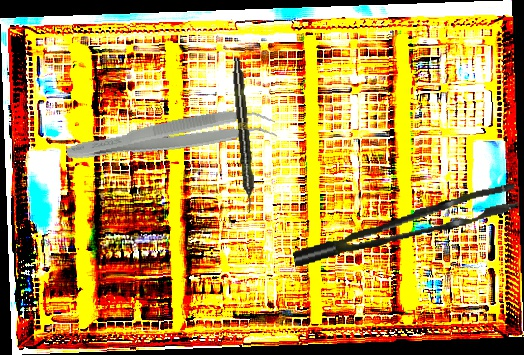Handpiece: (230, 57, 257, 214)
Tissue Forceps: (287, 183, 523, 267), (64, 102, 278, 175)
